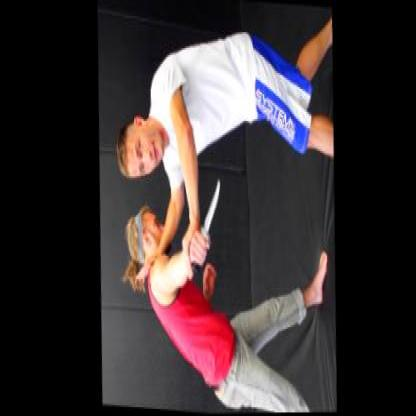knife: (184, 174, 224, 279)
